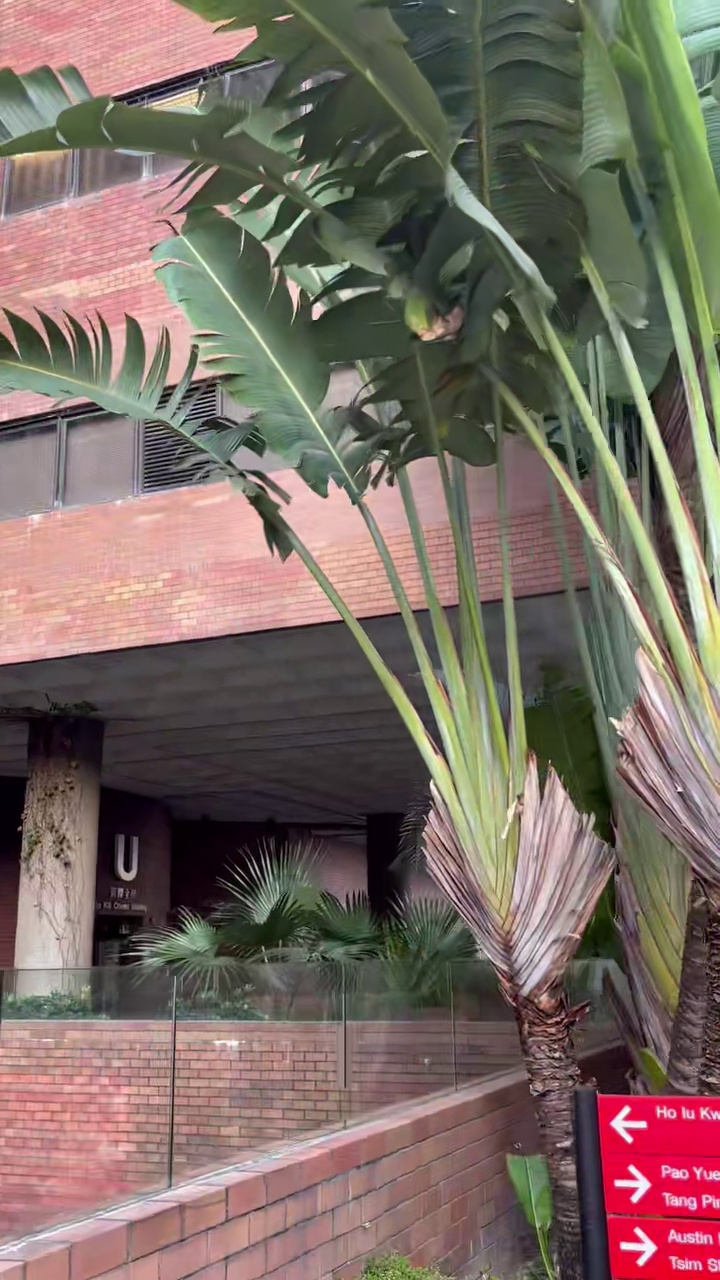Travellers-tree: (0, 0, 614, 1279), (6, 315, 170, 410)
